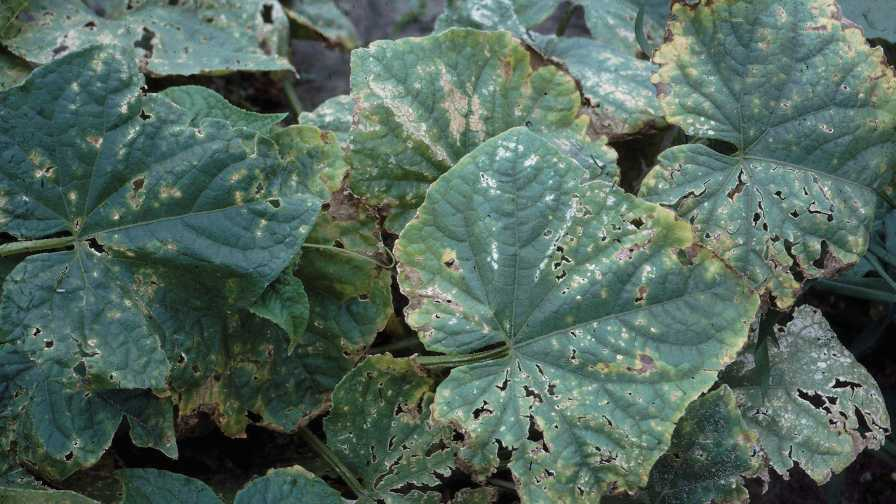Cucumber_AngularLeafSpot: (394, 133, 752, 490), (2, 64, 340, 410), (664, 5, 896, 324), (744, 308, 896, 473)
